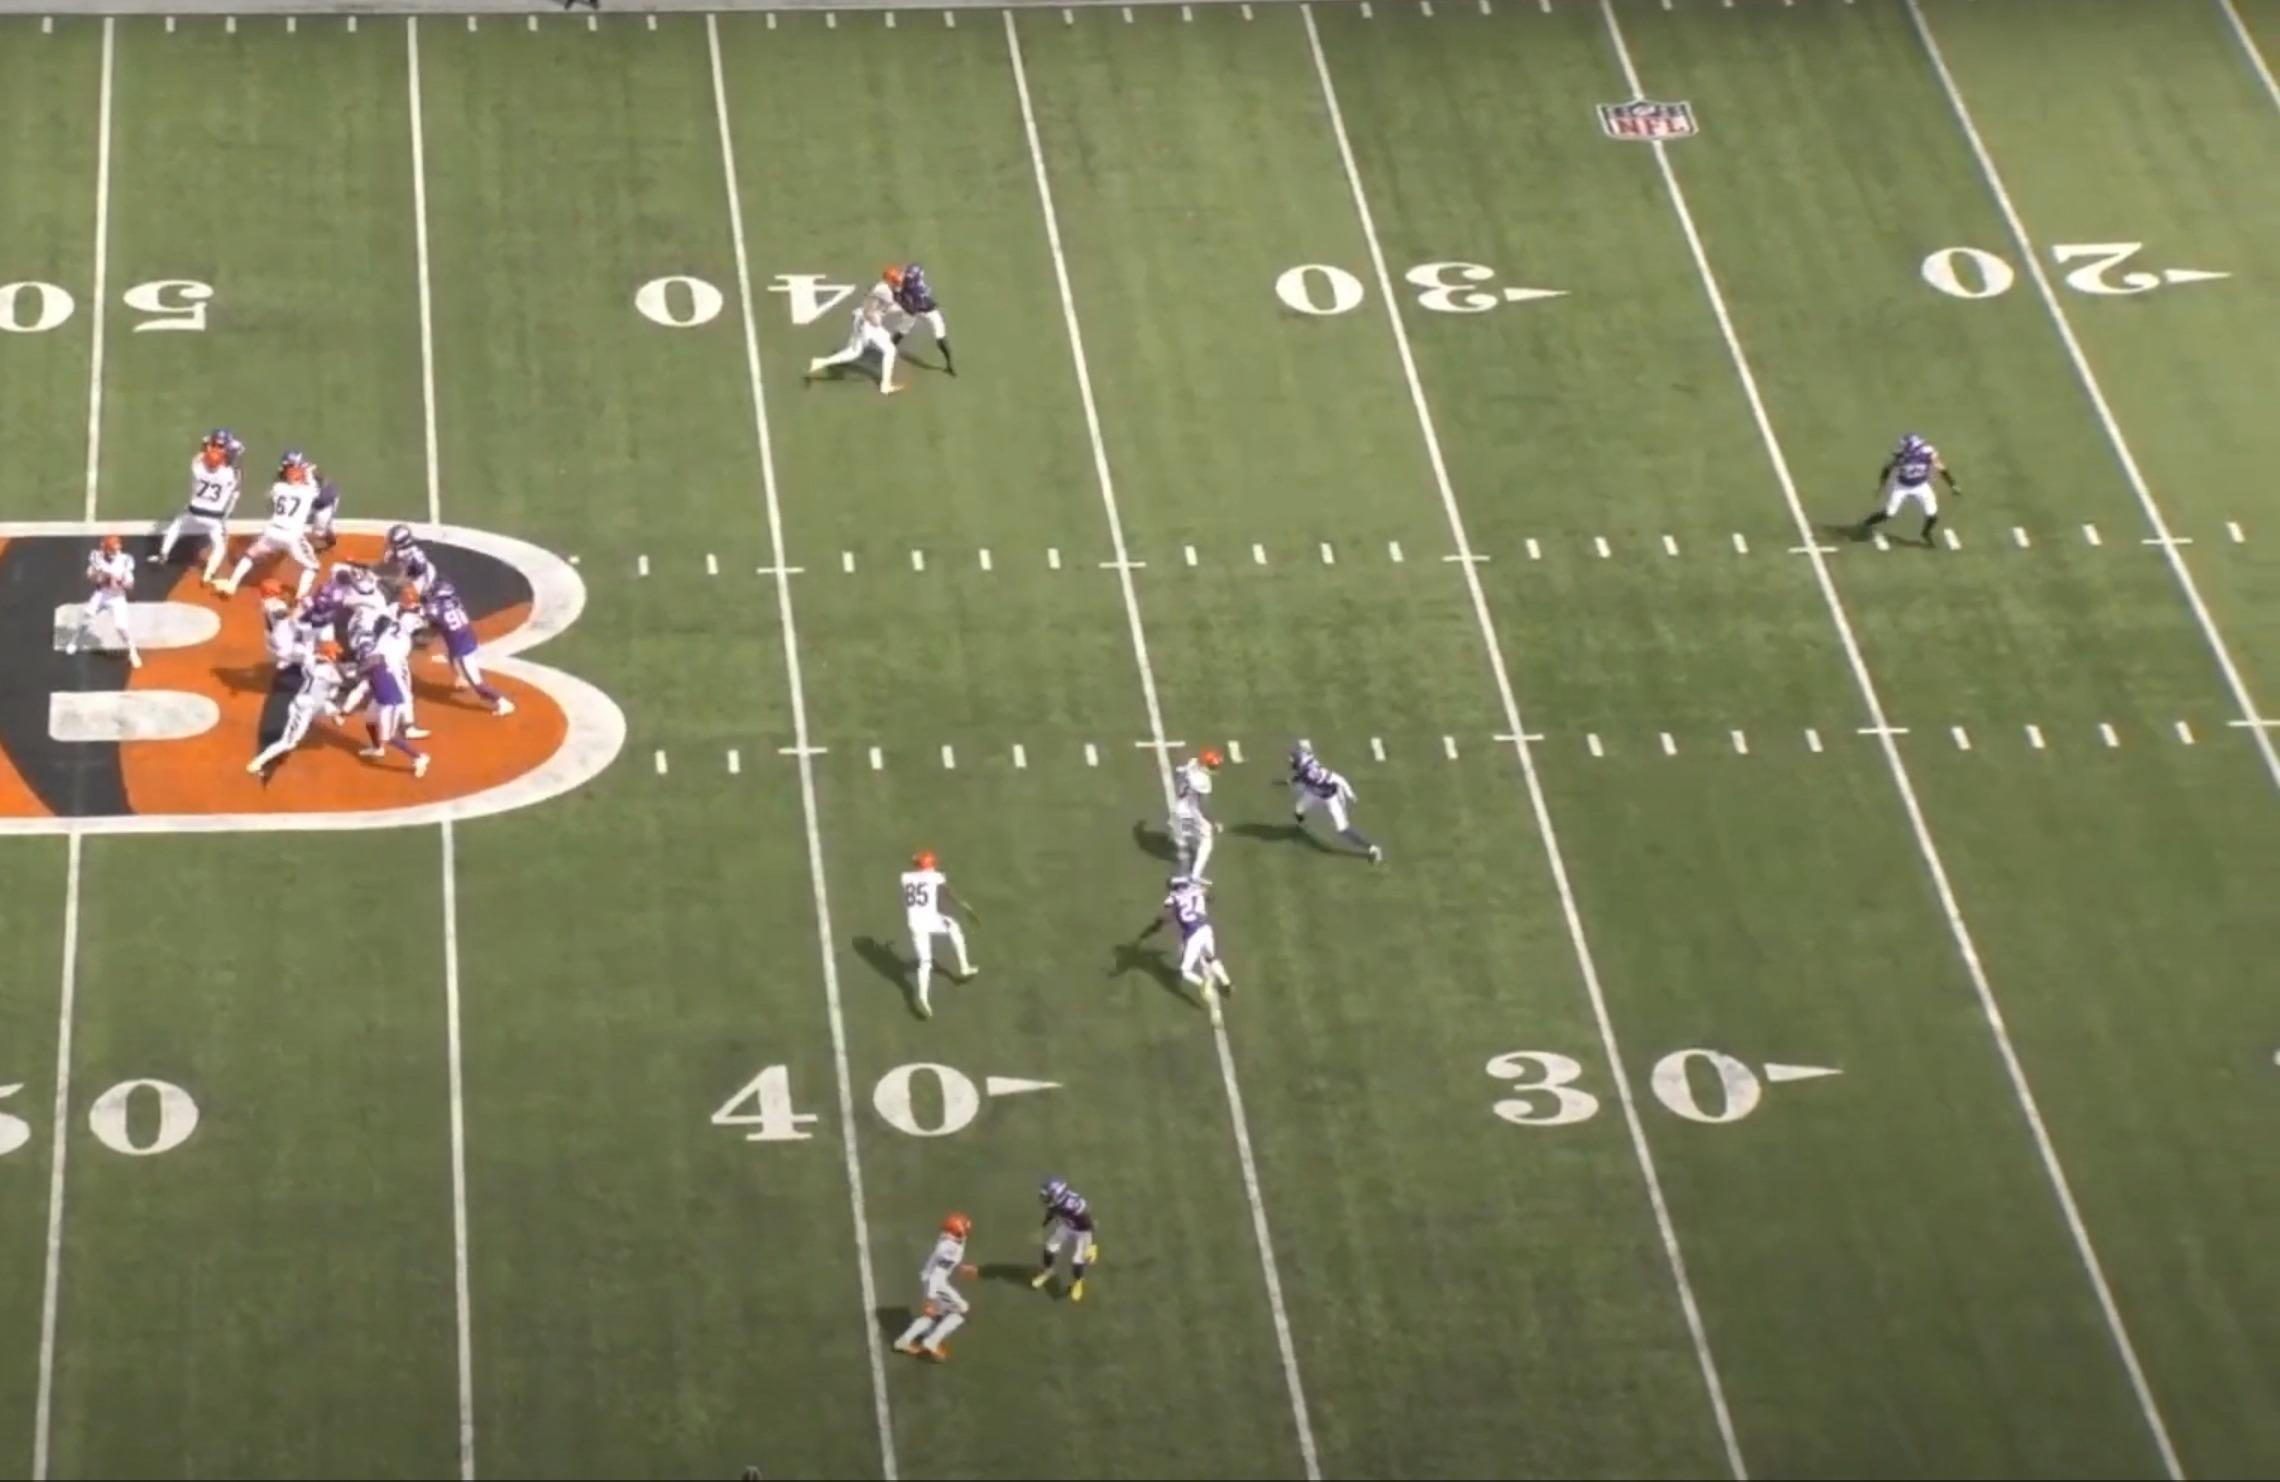defense: (417, 579, 515, 726), (1278, 739, 1382, 876), (1134, 869, 1236, 1007), (1858, 427, 1960, 561), (1021, 1168, 1098, 1313), (357, 642, 430, 784), (902, 258, 973, 396), (281, 449, 341, 545), (201, 425, 249, 532), (384, 526, 440, 589), (300, 584, 348, 644)
oline: (247, 639, 345, 786), (227, 456, 323, 602), (153, 446, 245, 585), (374, 587, 435, 738), (329, 552, 387, 615)
qb: (76, 537, 150, 704)
skill: (897, 1210, 1007, 1373), (896, 847, 988, 1026), (814, 261, 922, 403), (1154, 743, 1233, 879), (260, 578, 314, 669)
